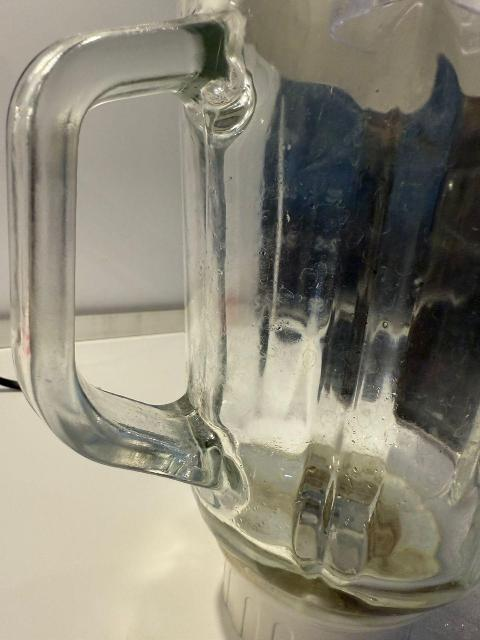Cam: (5, 0, 480, 625)
